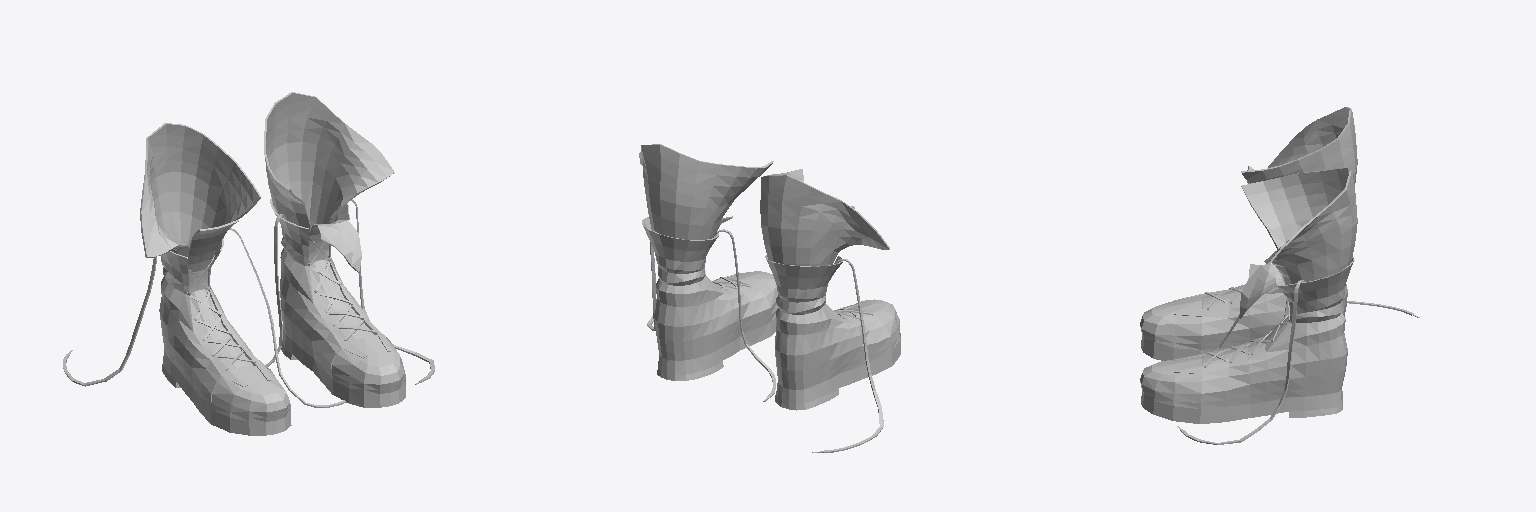
File: shouse.obj
The picture shows the model from 3 angles: view 1: azimuth 30°, elevation 25°; view 2: azimuth 150°, elevation 25°; view 3: azimuth 270°, elevation 25°; orthographic projection.
Parts seen in each view (by area): view 1: Boots_mtr_G11_V100.042; view 2: Boots_mtr_G11_V100.042; view 3: Boots_mtr_G11_V100.042.
Part boxes in pixels (left/top/right/bottom): Boots_mtr_G11_V100.042: left=63, top=92, right=434, bottom=435; Boots_mtr_G11_V100.042: left=639, top=144, right=900, bottom=452; Boots_mtr_G11_V100.042: left=1140, top=107, right=1419, bottom=444.
Size of the model in its own units: 0.4075 by 0.3208 by 0.3387.